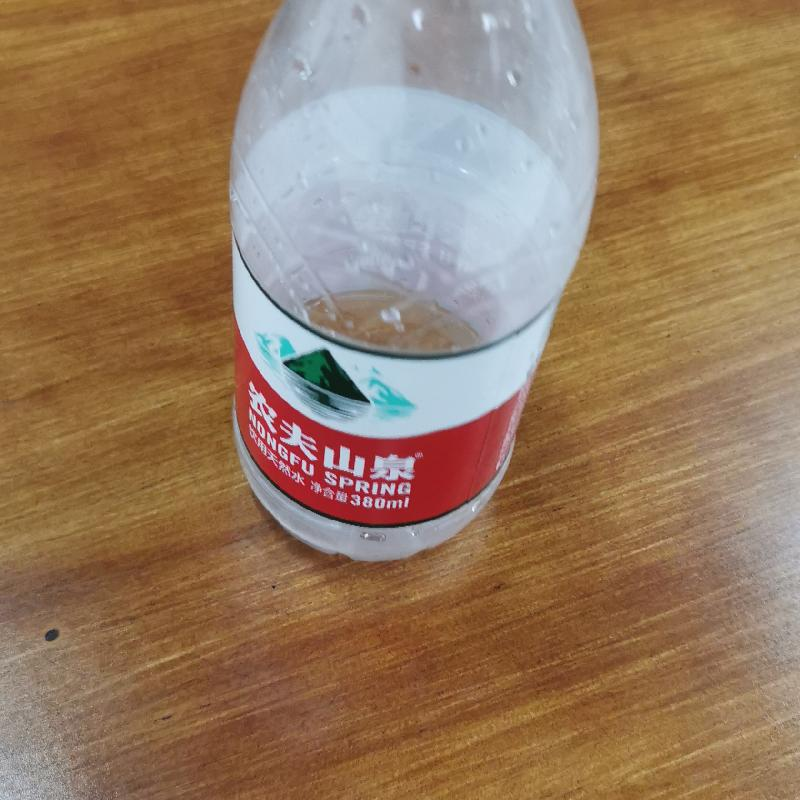bottles: (221, 1, 608, 567)
